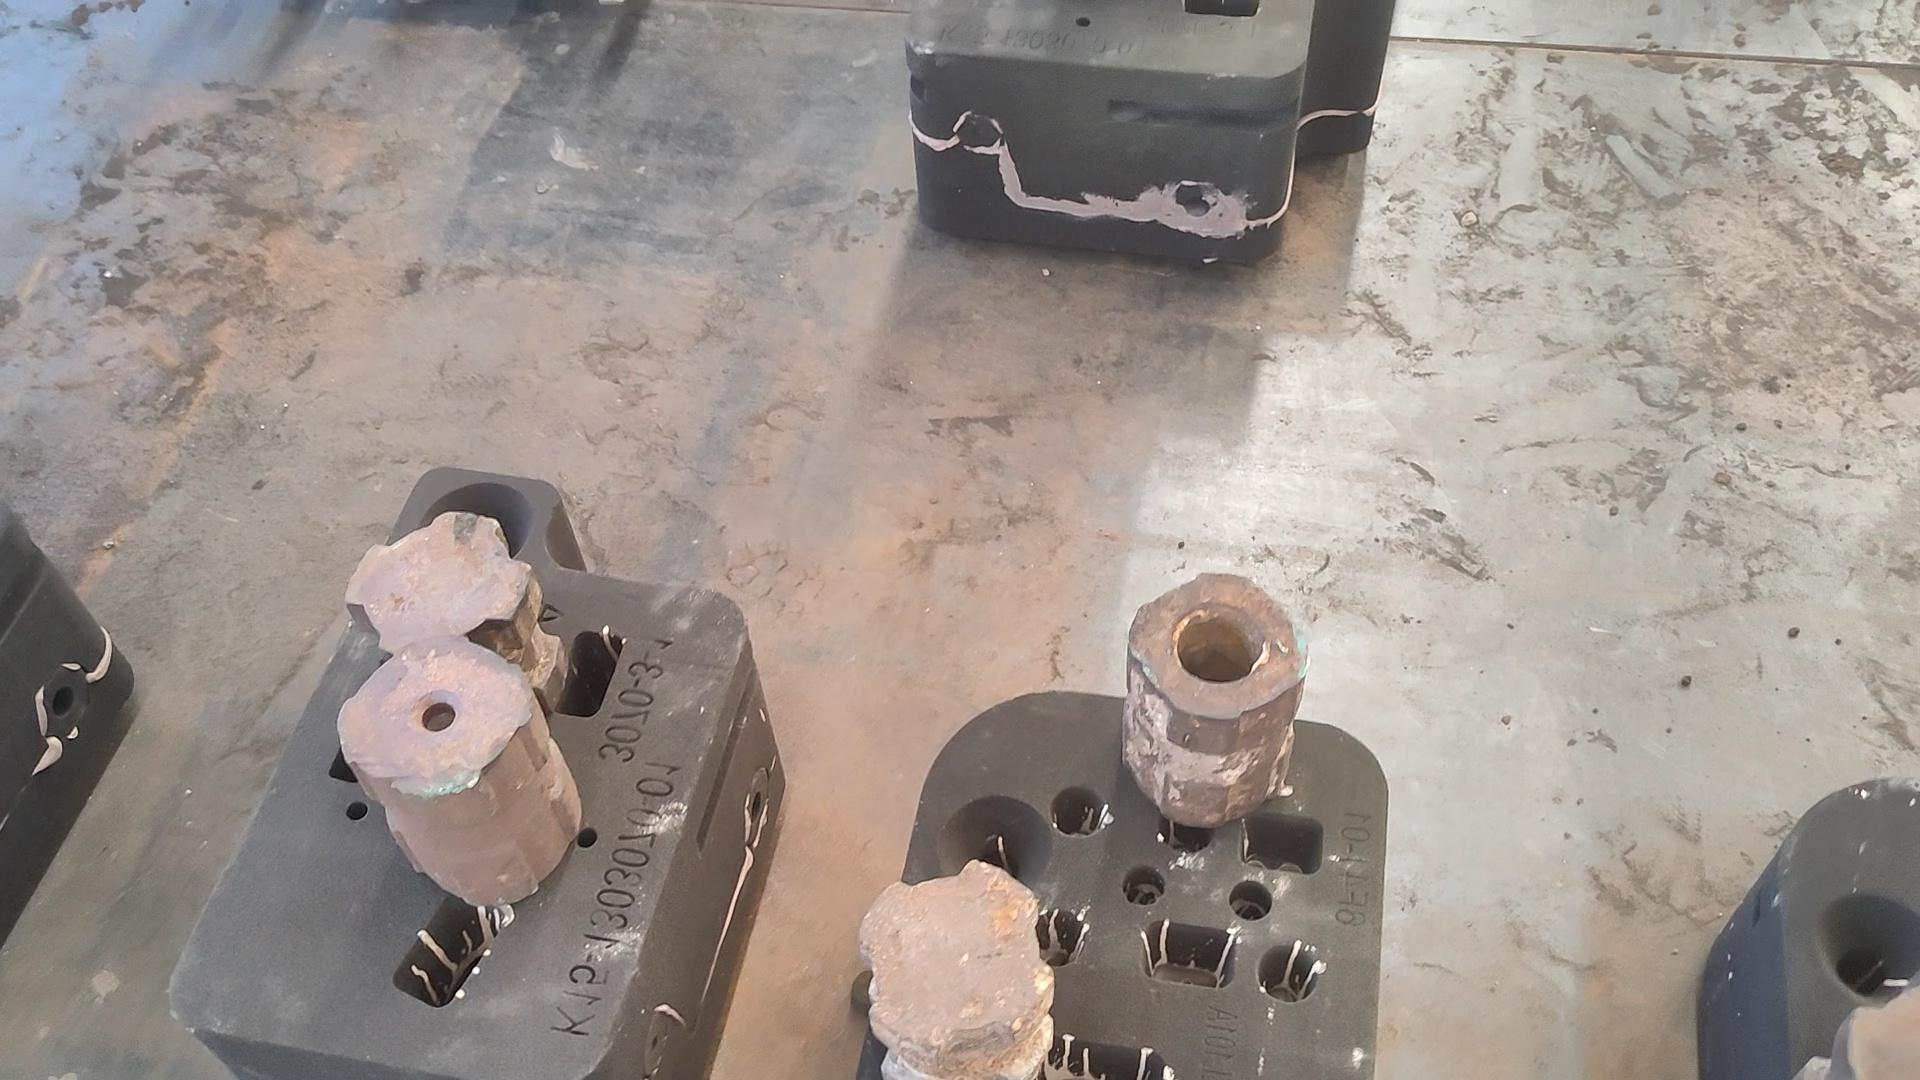pouring hole: (934, 795, 1054, 897), (1813, 893, 1920, 1004), (415, 483, 530, 572)
